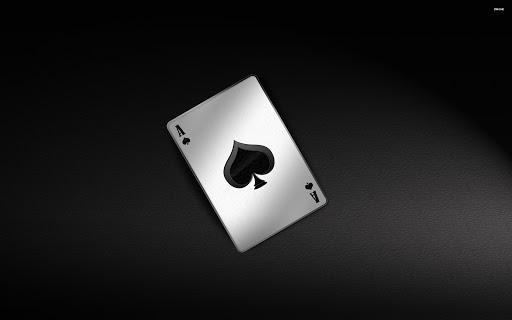ace of spades: (168, 72, 329, 251)
